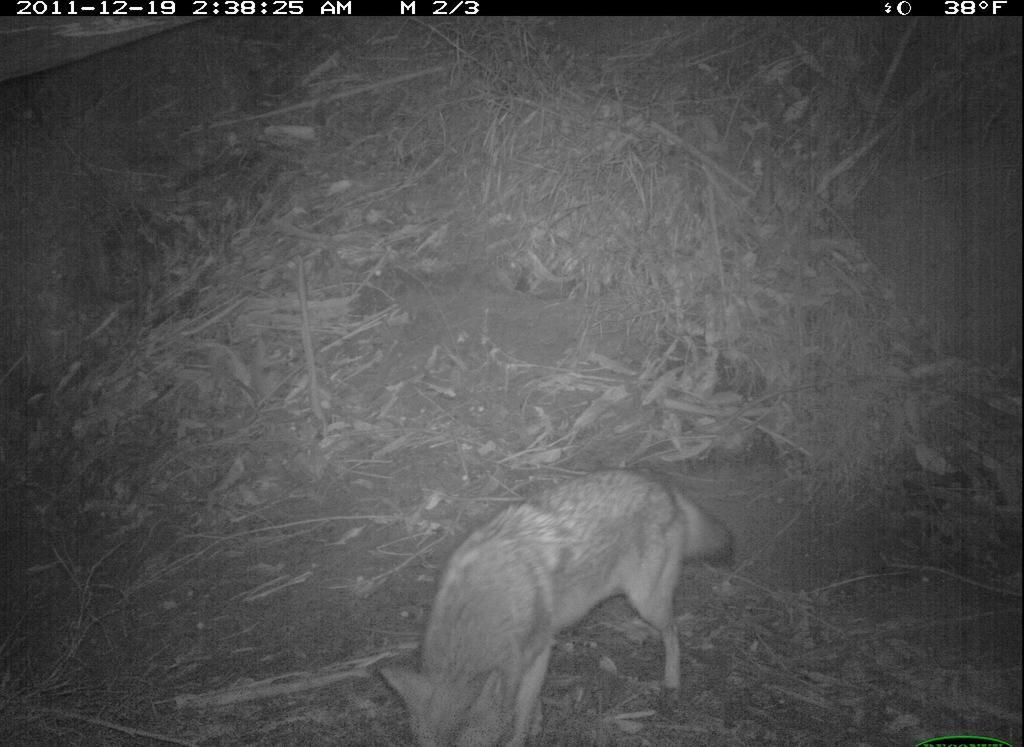coyote: (376, 459, 738, 744)
